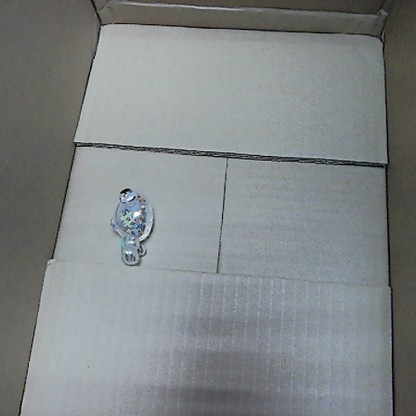whitefish: (109, 183, 155, 262)
